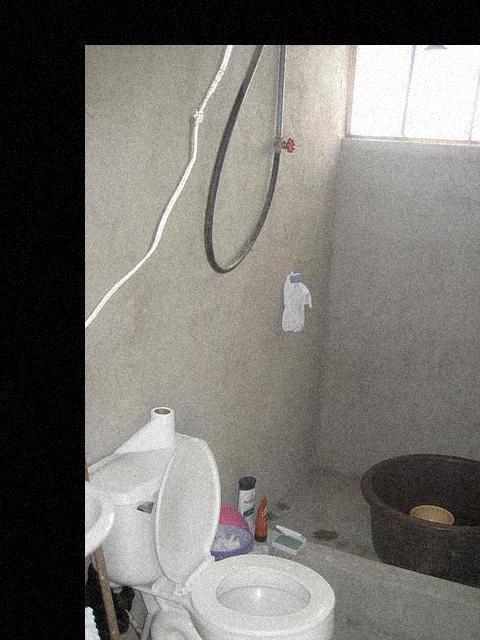Lavamanos: (85, 471, 118, 565)
